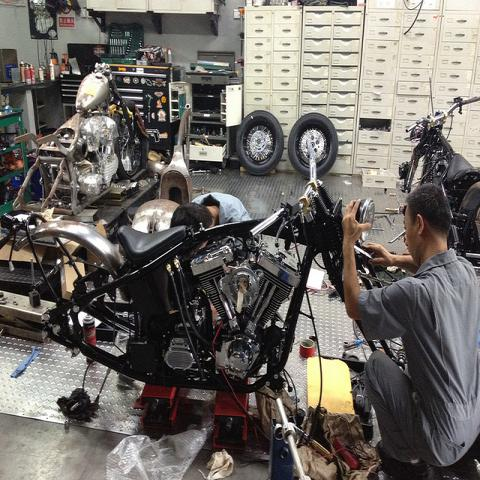motorcycle: (13, 132, 385, 399), (12, 63, 151, 218), (397, 93, 479, 282), (130, 107, 192, 229)
